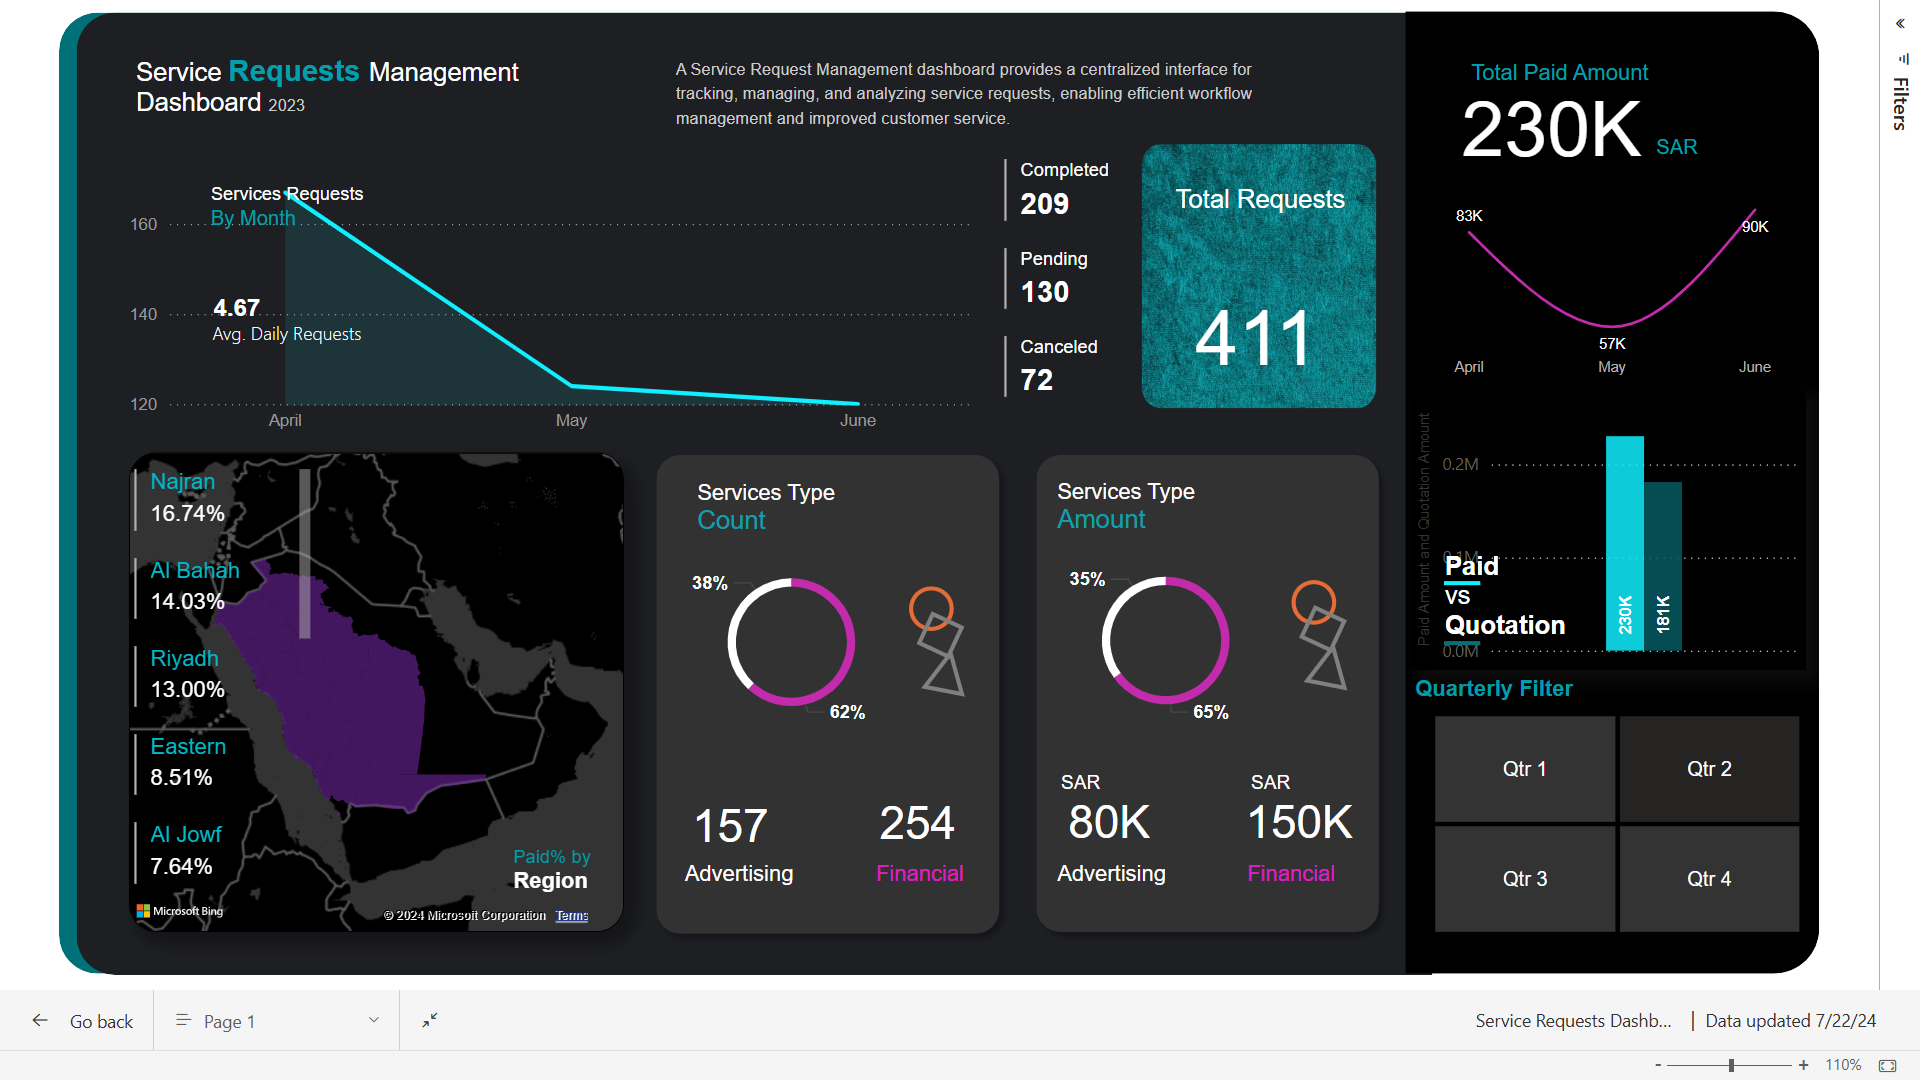

The dashboard page shown, as its layout file describes it:
{"tool":"powerbi","page":{"name":"Page 1","canvas":[1280,720],"ordinal":0},"visuals":[{"type":"shape","box":[0,9,999,699],"z":0},{"type":"shape","box":[702.3,322.1,267.1,365],"z":0,"group":"g1"},{"type":"shape","box":[896.5,422.3,32.6,32.6],"z":0,"group":"g2"},{"type":"shape","box":[618.4,426.7,32.6,32.6],"z":0,"group":"g3"},{"type":"shape","box":[12.8,9.3,986,700],"z":1000},{"type":"donutChart","fields":{"Category":["Service_Type.Service Type"],"Y":["Sum(Request_Status.Paid Amount)"]},"box":[720.6,393.9,168.3,144.8],"z":1000,"group":"g1"},{"type":"shape","box":[902.3,440.9,34.9,34.9],"z":1000,"group":"g2"},{"type":"shape","box":[624.2,445.3,34.9,34.9],"z":1000,"group":"g3"},{"type":"shape","box":[978.8,8.5,301.2,700],"z":2000},{"type":"textbox","box":[721.1,344,158.1,55.7],"z":2000,"group":"g1"},{"type":"shape","box":[903.5,467.6,34.9,34.9],"z":2000,"group":"g2"},{"type":"shape","box":[625.4,472,34.9,34.9],"z":2000,"group":"g3"},{"type":"textbox","box":[51.2,34.9,308.1,57],"z":3000},{"type":"card","fields":{"Values":["Service_Type.Advertising Paid Amount"]},"box":[691.9,554.7,144.2,84.7],"z":3000,"group":"g1"},{"type":"lineChart","fields":{"Category":["Locations.Date.Variation.Date Hierarchy.Month"],"Y":["CountNonNull(Locations.Request Number)"]},"box":[45.2,116.5,624.1,205.8],"z":4000},{"type":"card","fields":{"Values":["Service_Type.Financial Paid Amount"]},"box":[830.5,554.7,144.2,84.7],"z":4000,"group":"g1"},{"type":"textbox","box":[105.8,126.7,184.9,50],"z":5000},{"type":"textbox","box":[721,622.2,102.3,47.6],"z":5000,"group":"g1"},{"type":"textbox","box":[859.3,621.9,102.3,47.6],"z":6000,"group":"g1"},{"type":"textbox","box":[448.8,622.1,102.3,47.7],"z":6000},{"type":"card","fields":{"Values":["Locations.Avg. of Daily Requests"]},"box":[70,177,119,96],"z":7000},{"type":"textbox","box":[723.3,554.7,102.3,47.6],"z":7000,"group":"g1"},{"type":"textbox","box":[106.3,228.4,183.2,45.2],"z":8000},{"type":"textbox","box":[861.7,554.7,102.3,47.6],"z":8000,"group":"g1"},{"type":"multiRowCard","fields":{"Values":["Request_Status.Request Number","Request_Status.Request Status"]},"box":[683,111,132,208],"z":9000},{"type":"image","box":[782.6,100,180.2,202],"z":10000},{"type":"textbox","box":[781.4,130.2,183.7,37.2],"z":11000},{"type":"card","fields":{"Values":["CountNonNull(Request_Status.Request Number)"]},"box":[759.3,179.1,224.4,125.6],"z":12000},{"type":"textbox","box":[998.8,39.5,184.9,50],"z":13000},{"type":"card","fields":{"Values":["Sum(Request_Status.Paid Amount)"]},"box":[939,50,293,80],"z":14000},{"type":"textbox","box":[1120.9,93,111.6,36],"z":15000},{"type":"lineChart","fields":{"Category":["Locations.Date.Variation.Date Hierarchy.Month"],"Y":["Sum(Request_Status.Paid Amount)"]},"box":[979.1,138.4,301.2,144.2],"z":16000},{"type":"clusteredColumnChart","fields":{"Y":["Sum(Request_Status.Paid Amount)","Sum(Request_Status.Quotation Amount)"]},"box":[983.7,282.6,287.2,204.7],"z":17000},{"type":"textbox","box":[1002.3,396.5,167.4,79.1],"z":18000},{"type":"shape","box":[1007,414,26.7,20.9],"z":19000},{"type":"shape","box":[1007,457,26.7,20.9],"z":20000},{"type":"filledMap","fields":{"Category":["Locations.Province"]},"box":[50.6,329,360,349],"z":21000},{"type":"textbox","box":[325.7,608.4,85,47.9],"z":22000},{"type":"shape","box":[425.6,322.1,267.4,366.3],"z":23000},{"type":"group","id":"g1","title":"Group 1","box":[691.9,322.1,282.8,365],"z":24000},{"type":"card","fields":{"Values":["Service_Type.Financial Count"]},"box":[552.5,555.8,144.2,84.9],"z":25000},{"type":"textbox","box":[459.3,344.2,158.1,52.3],"z":26000},{"type":"card","fields":{"Values":["Service_Type.Advertising Count"]},"box":[416.3,557,144.2,84.9],"z":27000},{"type":"donutChart","fields":{"Category":["Service_Type.Service Type"],"Y":["CountNonNull(Service_Type.Request Number)"]},"box":[448.8,394.2,167.4,145.3],"z":28000},{"type":"textbox","box":[589.5,622.1,102.3,47.7],"z":29000},{"type":"textbox","box":[450,622.1,102.3,47.7],"z":30000},{"type":"advancedSlicerVisual","fields":{"Values":["Locations.Date.Variation.Date Hierarchy.Quarter"]},"box":[1001.2,501.2,265.1,197.7],"z":31000},{"type":"multiRowCard","fields":{"Values":["Locations.Province","Sum(Service_Type.Paid Amount)"]},"box":[50.3,336.5,137.7,319.8],"z":32000},{"type":"textbox","box":[986,492,187.2,39.5],"z":33000},{"type":"group","id":"g2","title":"Group 2","box":[896.5,422.3,41.9,80.2],"z":34000},{"type":"group","id":"g3","title":"Group 2","box":[618.4,426.7,41.9,80.2],"z":35000},{"type":"textbox","box":[431.9,35.1,474.9,79.1],"z":36000}]}

Visuals, with their boxes on the page's 1280x720 design canvas (x1, y1, x2, y2). These are canvas units, not pixel positions in the 1920x1080 screenshot, which may show the page scaled, cropped or inside an application window:
shape: bbox=(0, 9, 999, 708)
shape: bbox=(702, 322, 969, 687)
shape: bbox=(896, 422, 929, 455)
shape: bbox=(618, 427, 651, 459)
shape: bbox=(13, 9, 999, 709)
donutChart - Service_Type.Service Type x Sum(Request_Status.Paid Amount): bbox=(721, 394, 889, 539)
shape: bbox=(902, 441, 937, 476)
shape: bbox=(624, 445, 659, 480)
shape: bbox=(979, 8, 1280, 708)
textbox: bbox=(721, 344, 879, 400)
shape: bbox=(904, 468, 938, 502)
shape: bbox=(625, 472, 660, 507)
textbox: bbox=(51, 35, 359, 92)
card - Service_Type.Advertising Paid Amount: bbox=(692, 555, 836, 639)
lineChart - Locations.Date.Variation.Date Hierarchy.Month x CountNonNull(Locations.Request Number): bbox=(45, 116, 669, 322)
card - Service_Type.Financial Paid Amount: bbox=(830, 555, 975, 639)
textbox: bbox=(106, 127, 291, 177)
textbox: bbox=(721, 622, 823, 670)
textbox: bbox=(859, 622, 962, 670)
textbox: bbox=(449, 622, 551, 670)
card - Locations.Avg. of Daily Requests: bbox=(70, 177, 189, 273)
textbox: bbox=(723, 555, 826, 602)
textbox: bbox=(106, 228, 290, 274)
textbox: bbox=(862, 555, 964, 602)
multiRowCard - Request_Status.Request Number x Request_Status.Request Status: bbox=(683, 111, 815, 319)
image: bbox=(783, 100, 963, 302)
textbox: bbox=(781, 130, 965, 167)
card - CountNonNull(Request_Status.Request Number): bbox=(759, 179, 984, 305)
textbox: bbox=(999, 40, 1184, 90)
card - Sum(Request_Status.Paid Amount): bbox=(939, 50, 1232, 130)
textbox: bbox=(1121, 93, 1232, 129)
lineChart - Locations.Date.Variation.Date Hierarchy.Month x Sum(Request_Status.Paid Amount): bbox=(979, 138, 1280, 283)
clusteredColumnChart - Sum(Request_Status.Paid Amount) x Sum(Request_Status.Quotation Amount): bbox=(984, 283, 1271, 487)
textbox: bbox=(1002, 396, 1170, 476)
shape: bbox=(1007, 414, 1034, 435)
shape: bbox=(1007, 457, 1034, 478)
filledMap - Locations.Province: bbox=(51, 329, 411, 678)
textbox: bbox=(326, 608, 411, 656)
shape: bbox=(426, 322, 693, 688)
"Group 1" group: bbox=(692, 322, 975, 687)
card - Service_Type.Financial Count: bbox=(552, 556, 697, 641)
textbox: bbox=(459, 344, 617, 396)
card - Service_Type.Advertising Count: bbox=(416, 557, 560, 642)
donutChart - Service_Type.Service Type x CountNonNull(Service_Type.Request Number): bbox=(449, 394, 616, 540)
textbox: bbox=(590, 622, 692, 670)
textbox: bbox=(450, 622, 552, 670)
advancedSlicerVisual - Locations.Date.Variation.Date Hierarchy.Quarter: bbox=(1001, 501, 1266, 699)
multiRowCard - Locations.Province x Sum(Service_Type.Paid Amount): bbox=(50, 336, 188, 656)
textbox: bbox=(986, 492, 1173, 532)
"Group 2" group: bbox=(896, 422, 938, 502)
"Group 2" group: bbox=(618, 427, 660, 507)
textbox: bbox=(432, 35, 907, 114)
